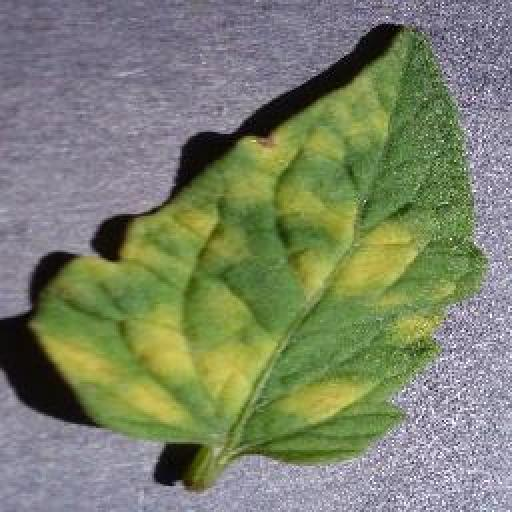disease_tomato: (34, 23, 488, 468)
